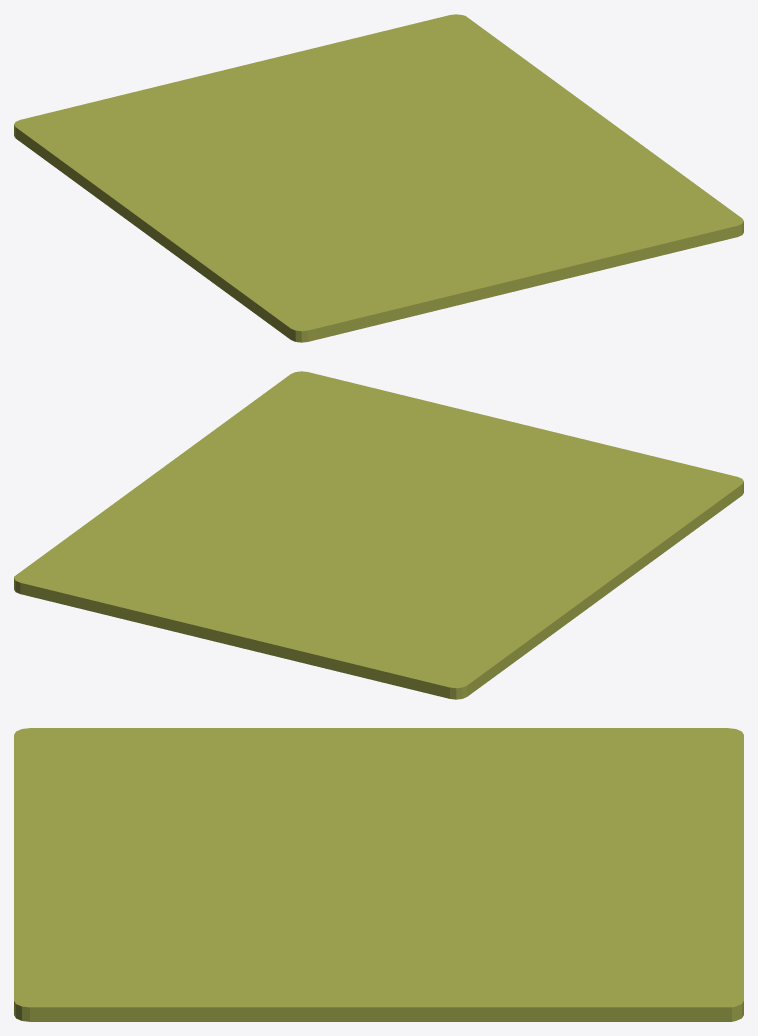
Rendered from grass_top_001.fbx.
The picture shows the model from 3 angles, top to bottom: view 1: azimuth 30°, elevation 25°; view 2: azimuth 150°, elevation 25°; view 3: azimuth 270°, elevation 25°; orthographic projection. The views are drawn at different scales.
Visible parts, largest first — view 1: grass_top.001; view 2: grass_top.001; view 3: grass_top.001.
Part boxes in pixels (x1=…): grass_top.001: x1=14, y1=14, x2=743, y2=342; grass_top.001: x1=14, y1=371, x2=743, y2=699; grass_top.001: x1=14, y1=728, x2=743, y2=1021.
Size of the model in its own units: 621 by 15 by 686.
